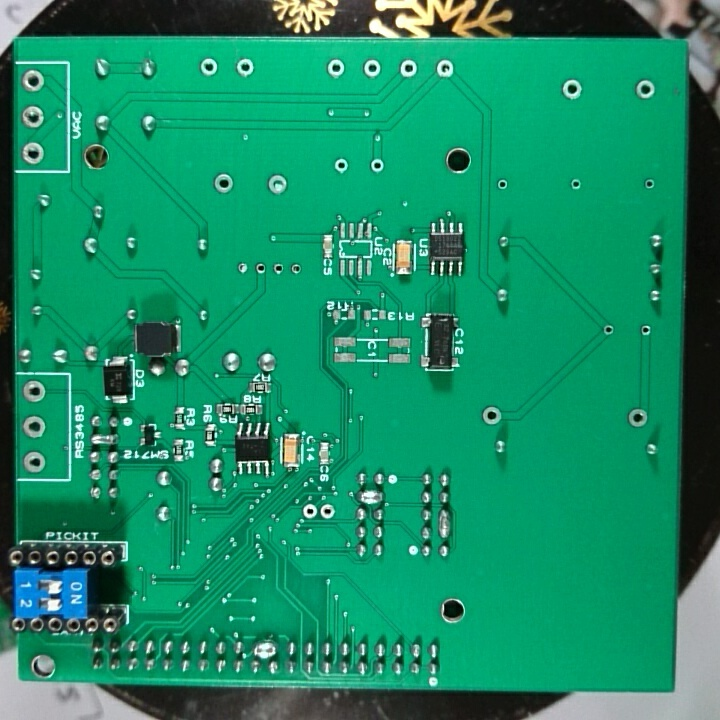F: (19, 412, 48, 440), (19, 103, 46, 132), (21, 448, 50, 475), (20, 68, 48, 95), (19, 140, 48, 166), (558, 77, 585, 103), (20, 378, 48, 403), (625, 405, 650, 431), (231, 56, 260, 78), (632, 78, 657, 103), (265, 171, 291, 195), (434, 58, 458, 83), (325, 55, 349, 80), (211, 172, 236, 196), (362, 56, 385, 82), (195, 55, 221, 78), (479, 405, 503, 428), (395, 58, 420, 80), (365, 155, 387, 176), (331, 154, 351, 175), (298, 502, 318, 522), (318, 500, 337, 521), (493, 176, 512, 195), (568, 175, 585, 194), (252, 259, 269, 278), (288, 259, 305, 278), (640, 175, 658, 192), (235, 260, 253, 277), (637, 322, 653, 340), (601, 322, 617, 338), (271, 260, 285, 278)
P: (355, 488, 385, 507), (251, 640, 278, 661), (87, 432, 120, 448), (437, 509, 451, 538)
